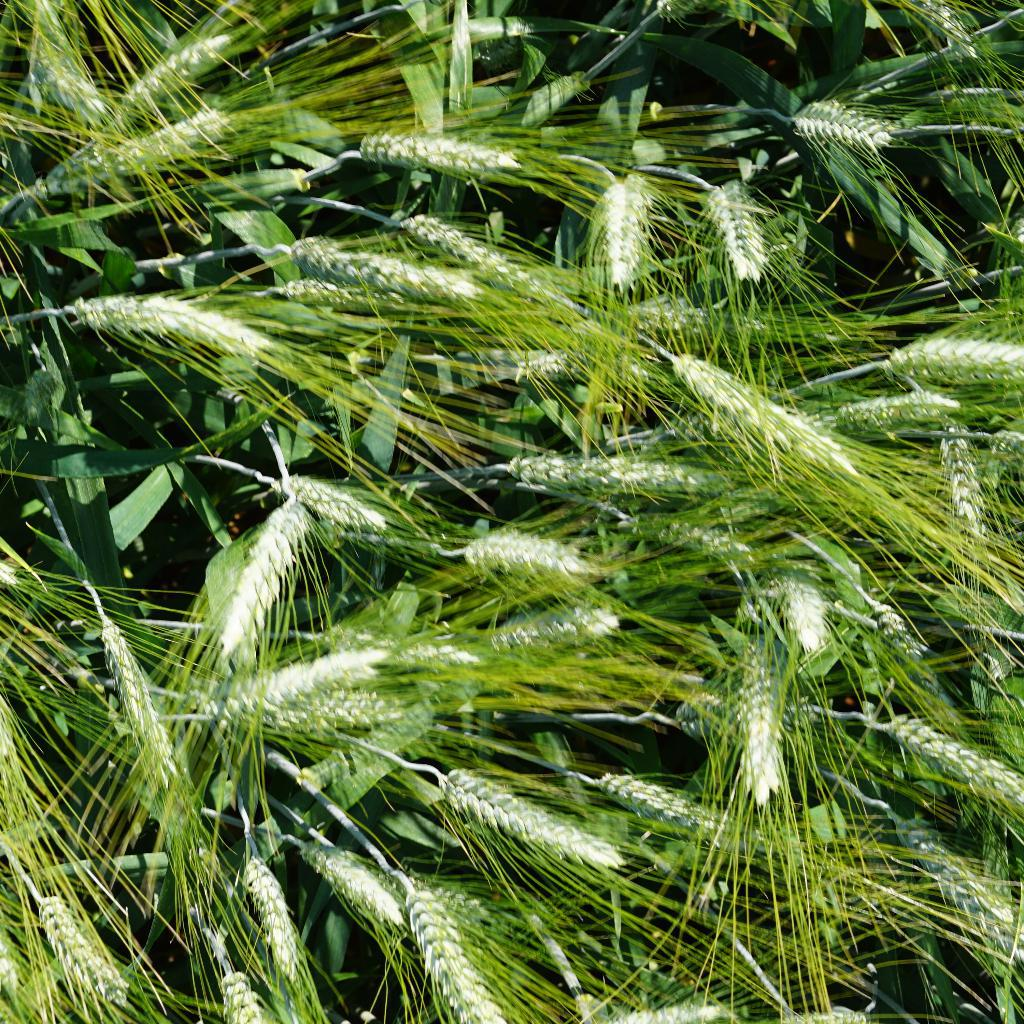0-0: (436, 758, 628, 877), (675, 347, 847, 470), (403, 864, 533, 1024), (51, 107, 264, 198), (225, 632, 481, 705), (60, 284, 279, 369), (403, 208, 582, 311), (209, 492, 314, 661), (107, 8, 262, 114), (598, 765, 761, 852), (284, 463, 445, 550), (94, 621, 180, 783), (294, 230, 486, 302), (27, 896, 131, 1020), (508, 447, 737, 503), (600, 285, 774, 353), (210, 675, 411, 733), (890, 714, 1024, 800), (914, 819, 1020, 927), (359, 111, 524, 179), (623, 499, 766, 570), (21, 10, 112, 120), (456, 514, 597, 583), (232, 855, 307, 979), (656, 686, 789, 755), (737, 620, 787, 802), (694, 174, 774, 287), (863, 321, 1024, 377), (478, 595, 626, 654), (317, 843, 410, 934), (828, 378, 978, 430), (597, 167, 657, 295), (791, 94, 901, 161), (514, 349, 653, 402), (940, 421, 998, 537), (264, 258, 376, 317), (206, 970, 311, 1024), (905, 0, 984, 61), (789, 572, 840, 661), (594, 999, 742, 1023), (870, 597, 929, 657)
